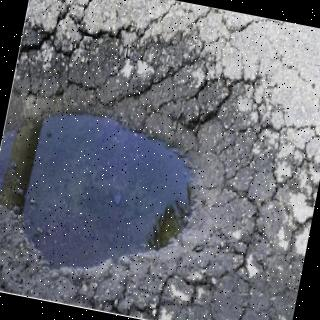pothole: (0, 24, 274, 314)
